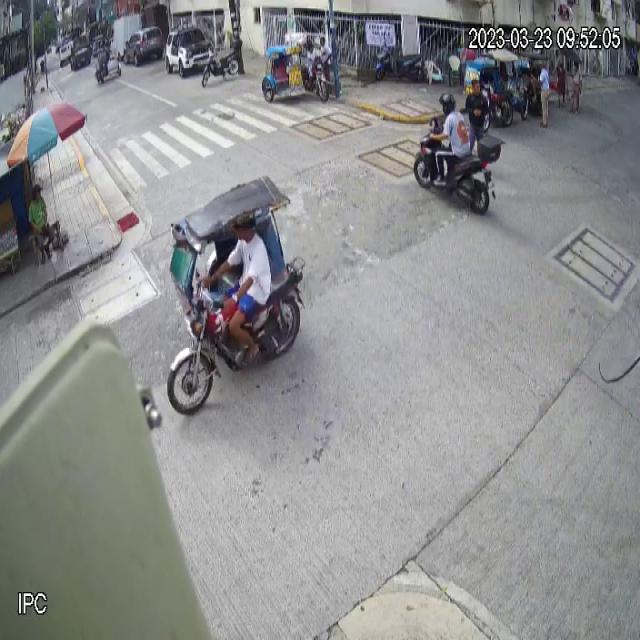Motorcycle: (413, 115, 506, 217)
Tricycle: (167, 174, 308, 416), (260, 32, 330, 105)
